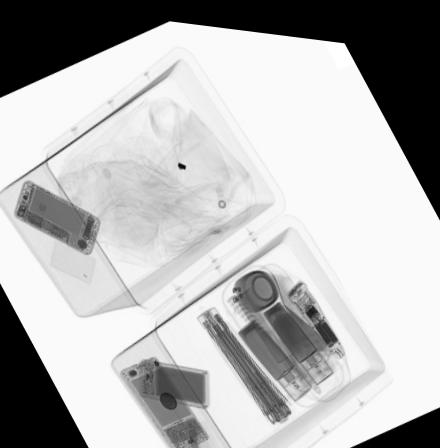Powerbank: (133, 354, 208, 404)
